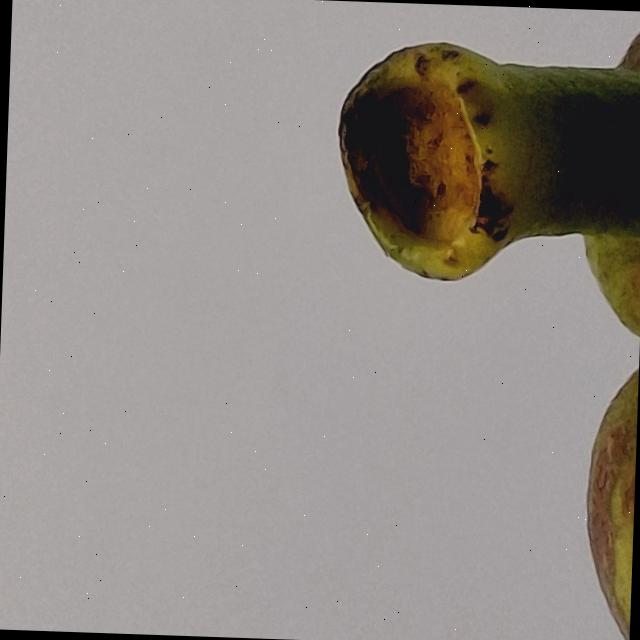mangosteen: (264, 0, 640, 640)
